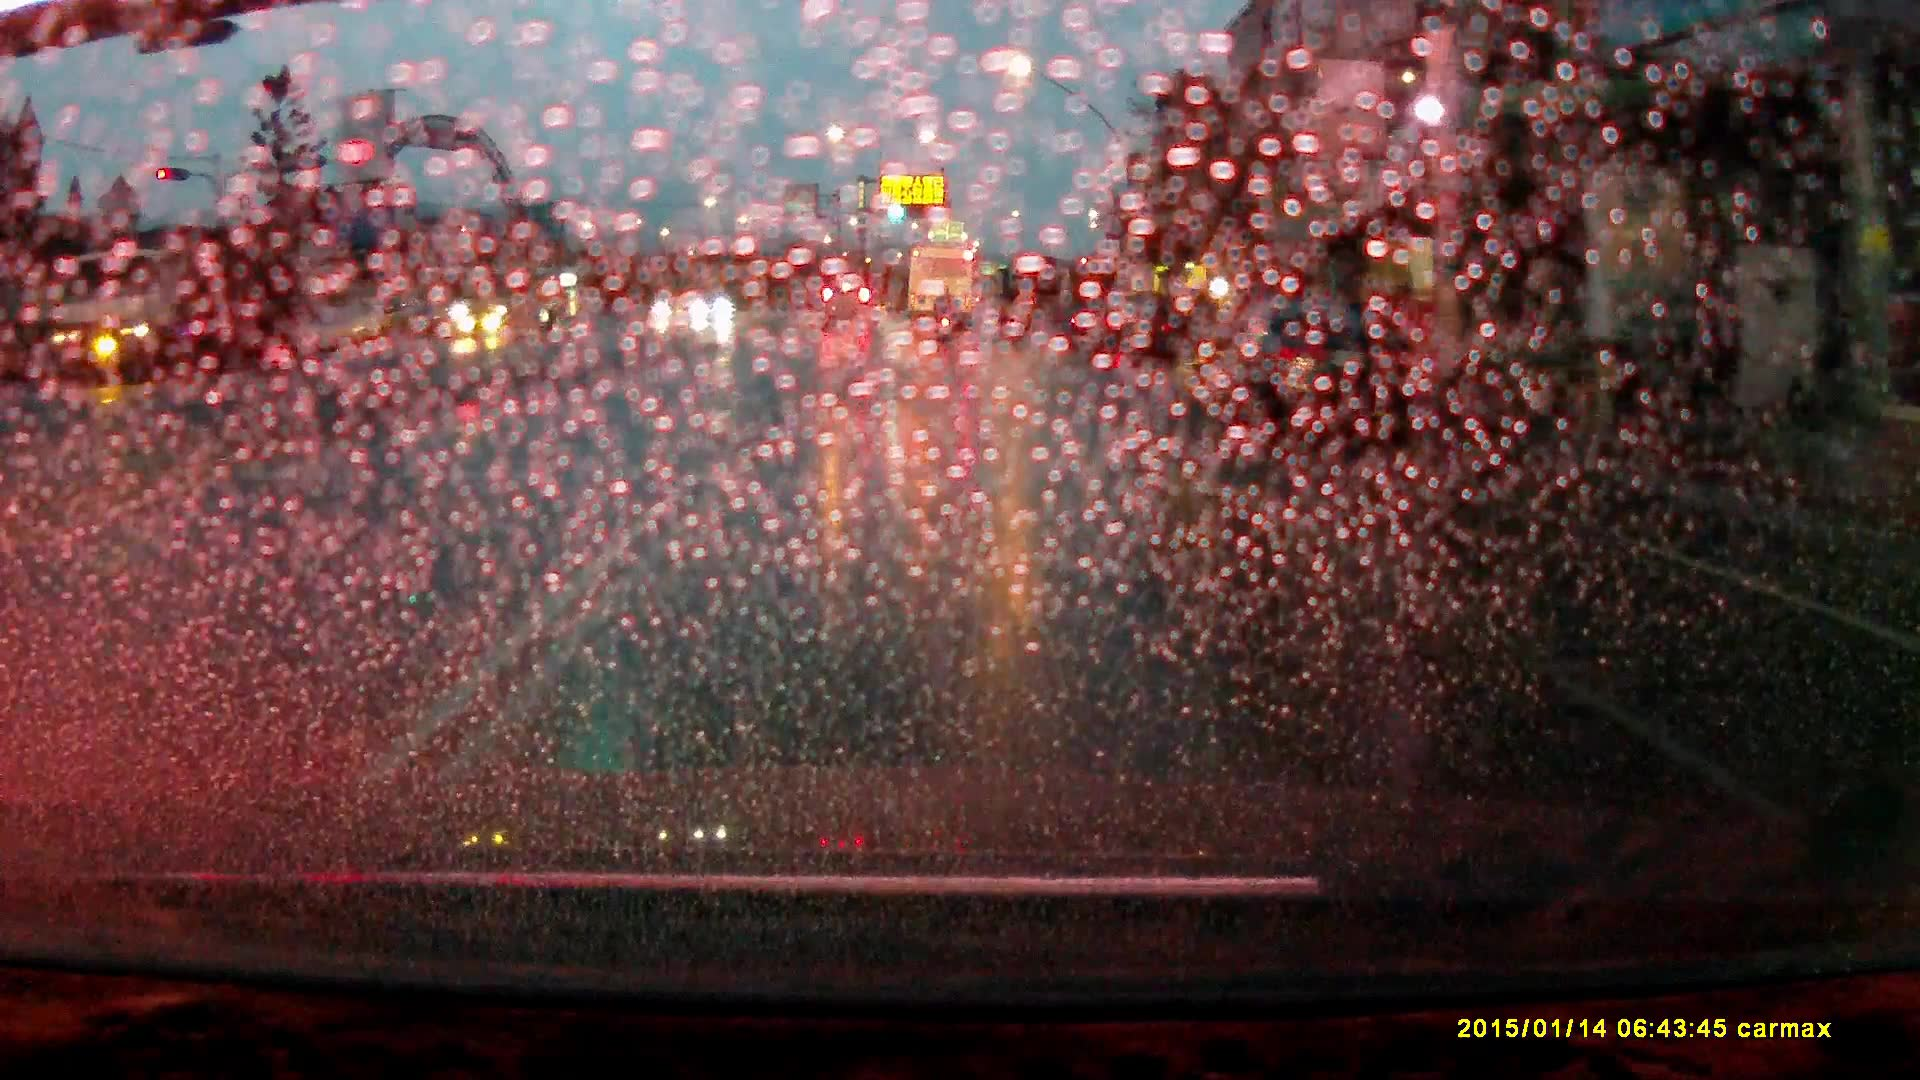rider: (934, 289, 961, 351)
vehicle: (45, 247, 263, 386), (1222, 312, 1425, 438), (453, 264, 565, 341), (909, 240, 978, 330), (1090, 306, 1177, 367), (820, 286, 881, 335), (688, 293, 736, 323)
